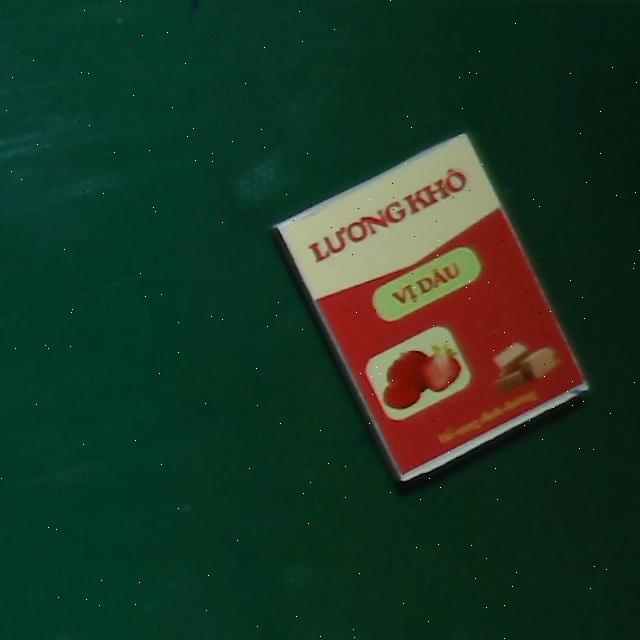dau: (270, 131, 590, 488)
